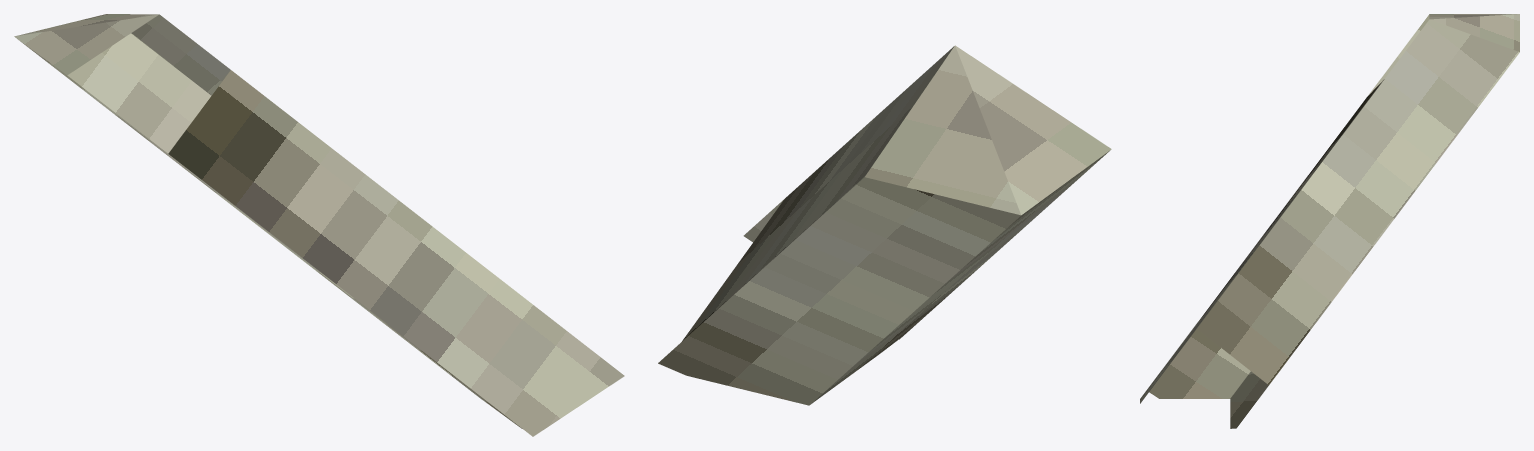
File: birch_thin_branch_45_diagonal.obj
3 renders of one model, left to right at view 1: azimuth 30°, elevation 25°; view 2: azimuth 150°, elevation 25°; view 3: azimuth 270°, elevation 25°, orthographic. The views are drawn at different scales.
Visible parts, largest first — view 1: cube_selection; view 2: cube_selection; view 3: cube_selection.
Boxes of the visible parts, bbox=[...] form: cube_selection: bbox=[14, 14, 624, 436]; cube_selection: bbox=[658, 45, 1111, 405]; cube_selection: bbox=[1140, 14, 1519, 428].
Bounding box in the file's own units: 1.31 × 1.12 × 1.31.
